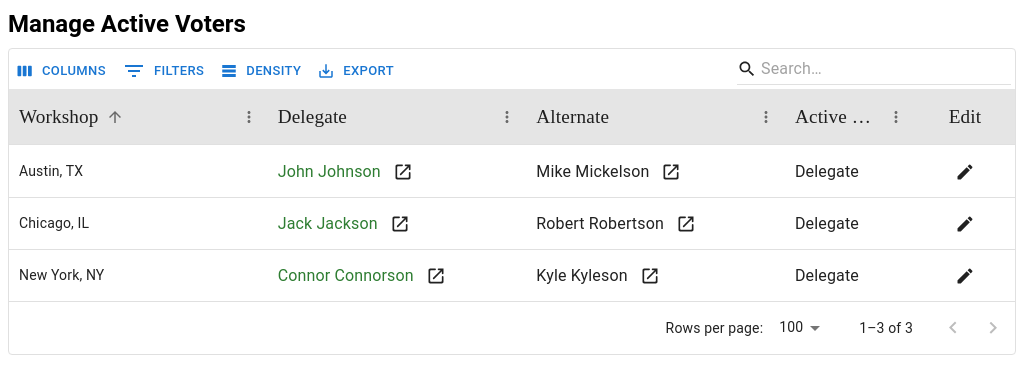
Successfully alerts when voter is not a delegate or alternate
The width and height of the screenshot is (1024, 372).
Click the menu item with test id "edit-active-voter-1" at (965, 172), box x1=950 y1=156 x2=980 y2=186
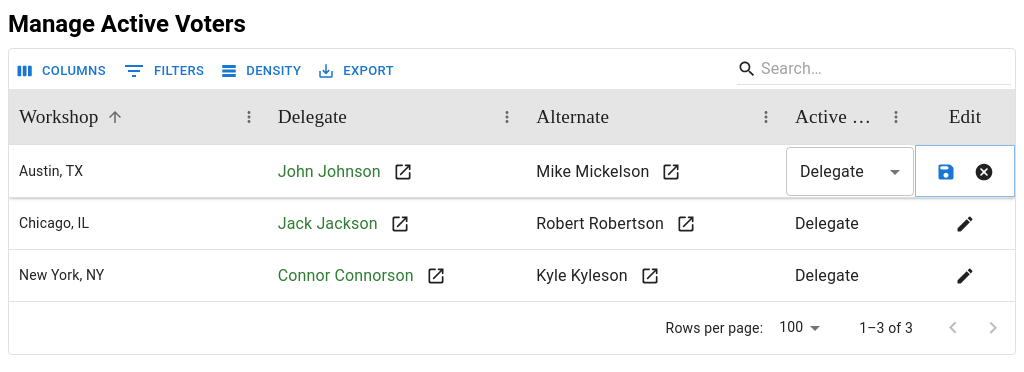
Click the menu item with test id "save-active-voter-1" at (946, 172), box x1=931 y1=156 x2=961 y2=186
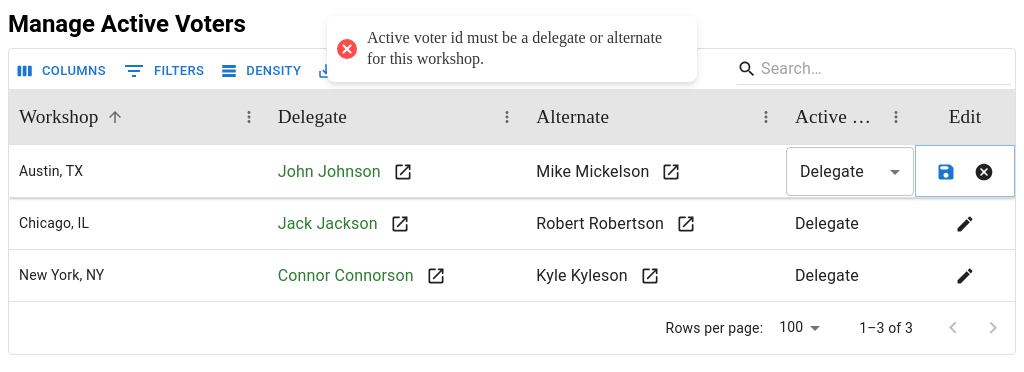
expect the text "Active voter id must be a delegate or alternate for this workshop." is shown: met, box x1=367 y1=28 x2=677 y2=70
